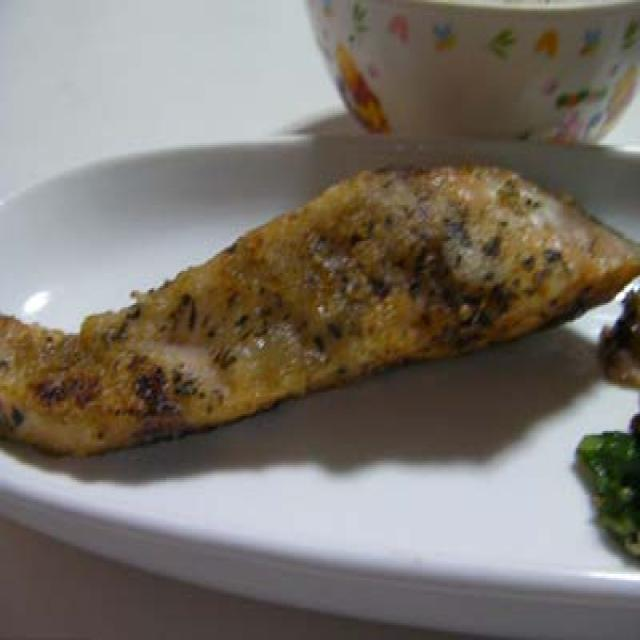熟制海鲜: (0, 136, 640, 510)
